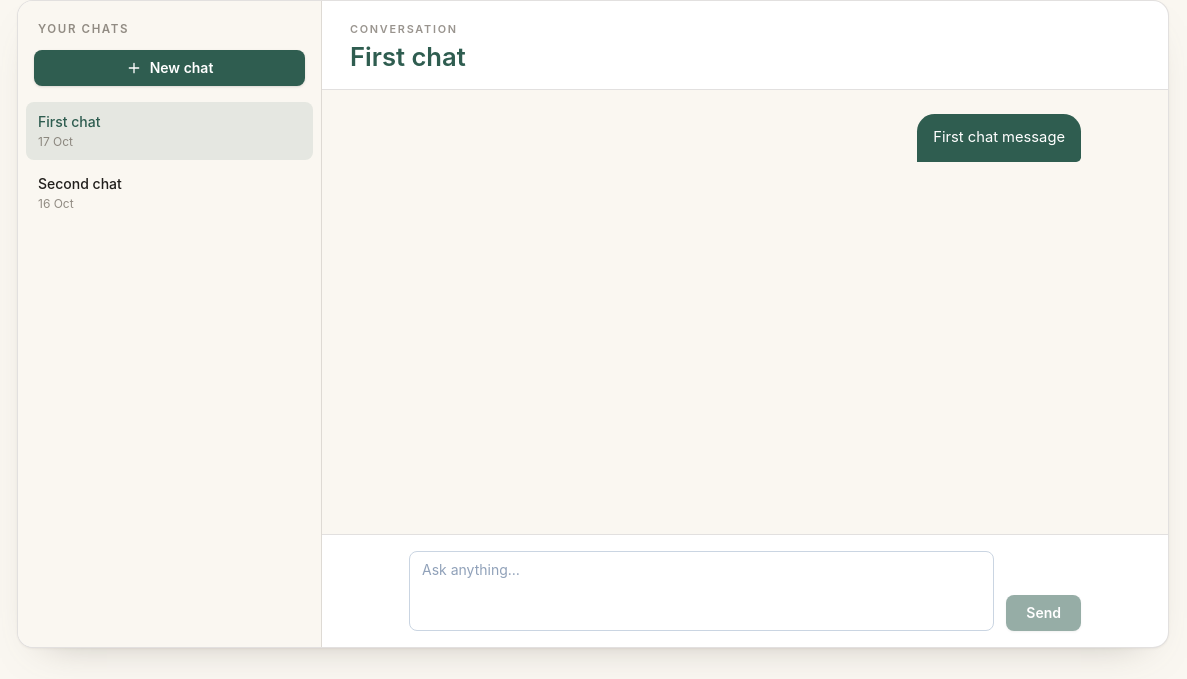
it: Chat screen › selecting a sidebar conversation loads its messages via GET /conversations/{id}/messages
Check: the text "First chat message" is shown, box top-left (917, 114), bottom-right (1081, 162)
Click the text "Second chat" at (80, 184), box top-left (38, 175), bottom-right (122, 192)
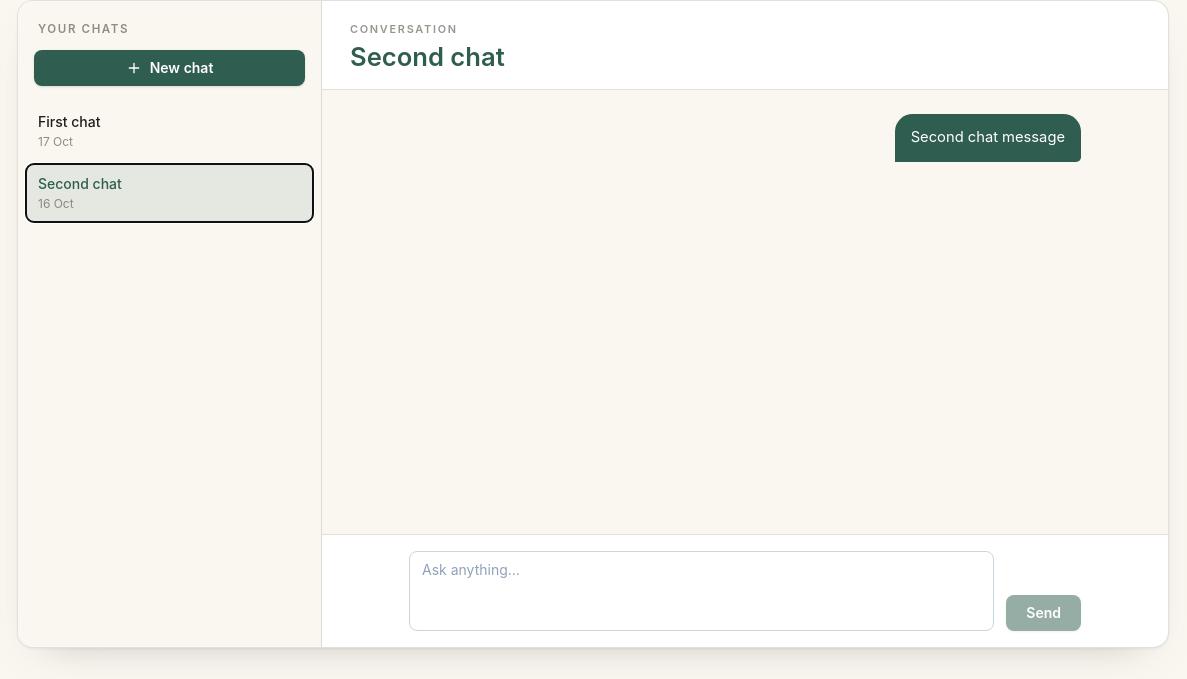
Check: the text "Second chat message" is shown, box top-left (895, 114), bottom-right (1081, 162)
Check: the text "First chat message" is gone
